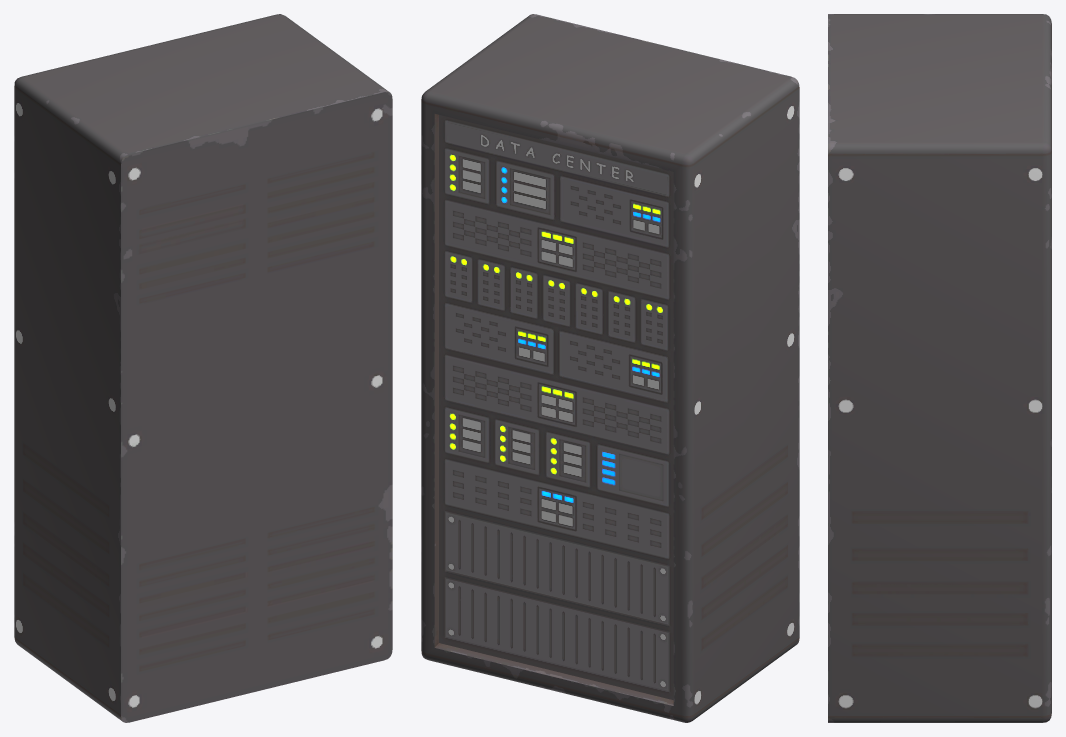
Rendered from OfficeServer01__4.fbx.
The picture shows the model from 3 angles, left to right: view 1: azimuth 30°, elevation 25°; view 2: azimuth 150°, elevation 25°; view 3: azimuth 270°, elevation 25°; orthographic projection.
Visible parts, largest first — view 1: OfficeServer01A 1; view 2: OfficeServer01A 1; view 3: OfficeServer01A 1.
Part boxes in pixels (<box>): OfficeServer01A 1: <box>14,14,392,722</box>; OfficeServer01A 1: <box>421,14,799,722</box>; OfficeServer01A 1: <box>828,14,1051,722</box>.
Bounding box in the file's own units: 1 × 2 × 0.7.
1 material, 1 textured.
